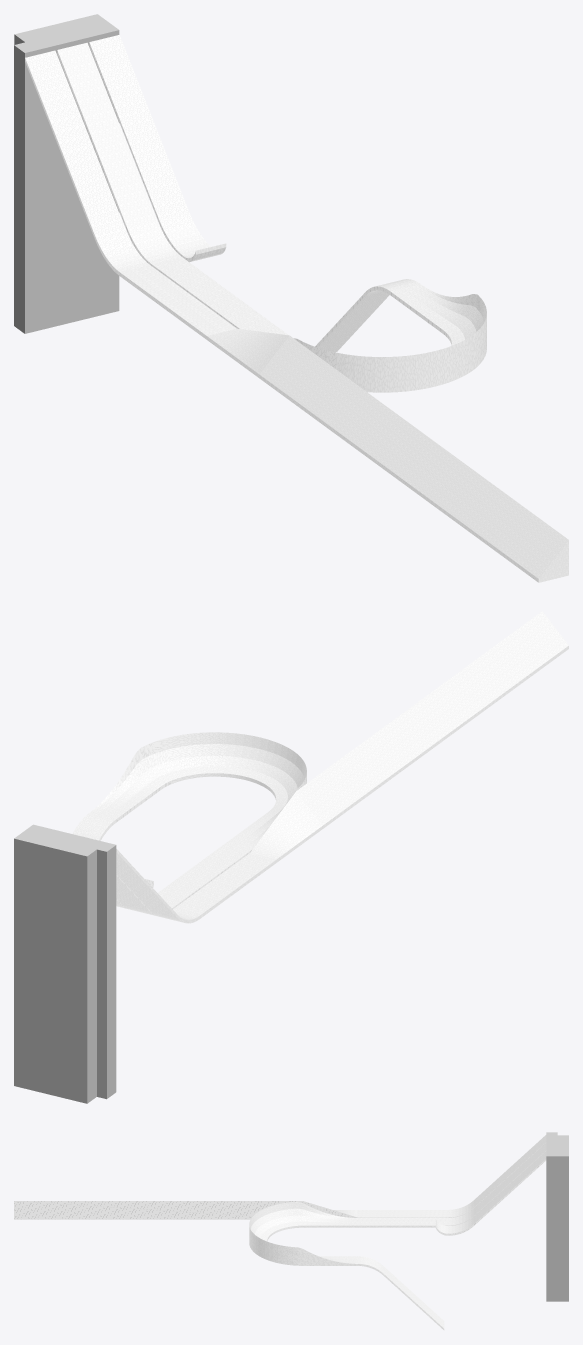
The model's file is Slides_Tower.gltf.
3 views of the same model, one above another, from view 1: azimuth 30°, elevation 25°; view 2: azimuth 150°, elevation 25°; view 3: azimuth 270°, elevation 25° (orthographic). The views are drawn at different scales.
Visible parts, largest first — view 1: Slide_04, Slide_03, Tower, Slide_02; view 2: Tower, Slide_04, Slide_03; view 3: Slide_04, Slide_03, Tower, Slide_02.
Part boxes in pixels (x1,y1,x2,y2): Slide_04: [25, 50, 568, 582]; Slide_03: [57, 42, 486, 392]; Tower: [14, 14, 119, 333]; Slide_02: [89, 35, 226, 262]; Tower: [14, 824, 116, 1103]; Slide_04: [116, 611, 568, 923]; Slide_03: [72, 732, 306, 915]; Slide_04: [14, 1135, 546, 1219]; Slide_03: [249, 1143, 546, 1330]; Tower: [546, 1132, 568, 1301]; Slide_02: [435, 1151, 546, 1235].
Size of what is drawn, in the model's own units: 226 by 284 by 982.
1 material, 1 textured.
